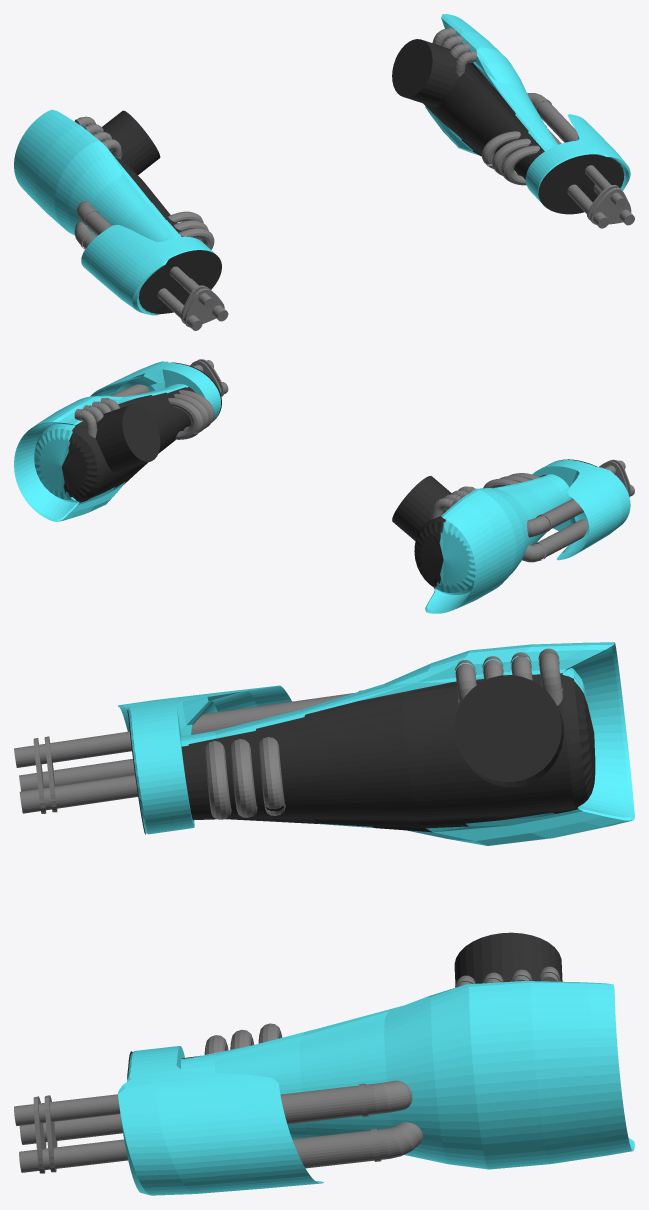
File: MissileShip_Arms_Lower.fbx
The picture shows the model from 3 angles, top to bottom: view 1: azimuth 30°, elevation 25°; view 2: azimuth 150°, elevation 25°; view 3: azimuth 270°, elevation 25°; orthographic projection. The views are drawn at different scales.
Parts seen in each view (by area): view 1: Cylinder.010, Cylinder.000, Cylinder.030, Cylinder.031, Cylinder.028, Cylinder.029, Cylinder.024, Cylinder.027; view 2: Cylinder.010, Cylinder.000, Cylinder.031, Cylinder.028, Cylinder.024, Cylinder.027, Cylinder.029; view 3: Cylinder.010, Cylinder.031, Cylinder.000, Cylinder.029, Cylinder.028, Cylinder.024, Cylinder.027.
Part boxes in pixels (box(x1,y1,x2,y2)): Cylinder.010: box(14, 14, 558, 241); Cylinder.000: box(81, 114, 630, 315); Cylinder.030: box(138, 154, 624, 314); Cylinder.031: box(115, 62, 544, 236); Cylinder.028: box(102, 39, 461, 174); Cylinder.029: box(157, 165, 634, 330); Cylinder.024: box(74, 27, 577, 249); Cylinder.027: box(168, 131, 539, 249); Cylinder.010: box(14, 384, 571, 613); Cylinder.000: box(90, 361, 630, 560); Cylinder.031: box(61, 387, 546, 589); Cylinder.028: box(95, 404, 451, 540); Cylinder.024: box(74, 384, 587, 562); Cylinder.027: box(168, 390, 539, 488); Cylinder.029: box(190, 359, 634, 496); Cylinder.010: box(181, 642, 634, 1169); Cylinder.031: box(181, 673, 595, 1058); Cylinder.000: box(118, 685, 323, 1195); Cylinder.029: box(14, 731, 137, 1173); Cylinder.028: box(454, 675, 563, 984); Cylinder.024: box(192, 648, 562, 1168); Cylinder.027: box(204, 737, 285, 1054).
Size of the model in its own units: 442 by 92.64 by 263.
